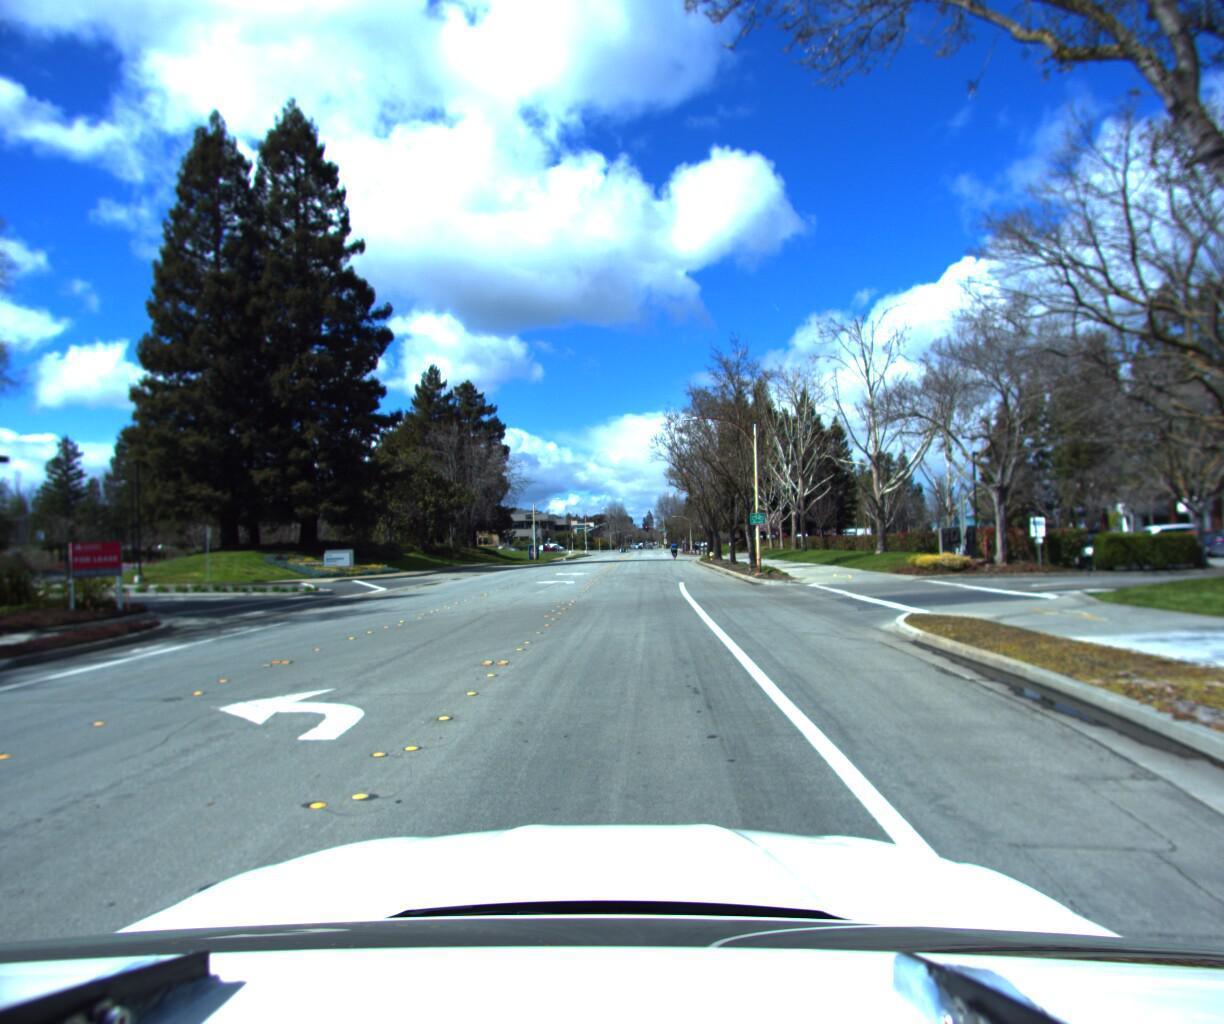bicycle: (670, 539, 680, 560)
